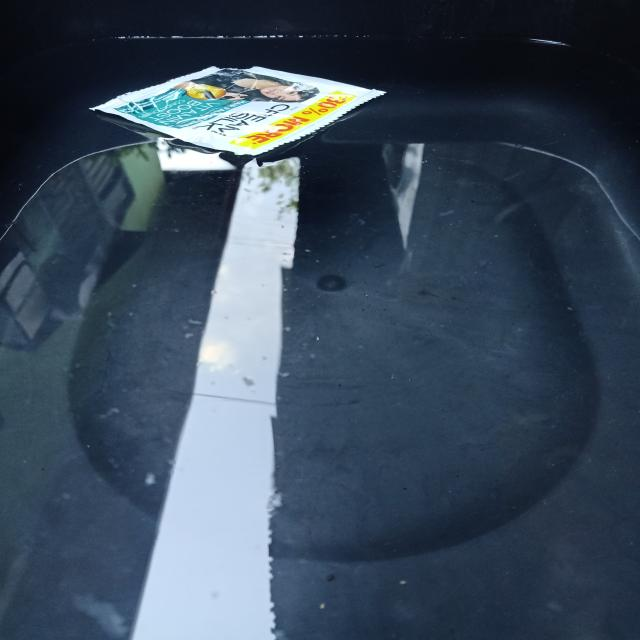Plastic Wrapper: (86, 53, 401, 181)
